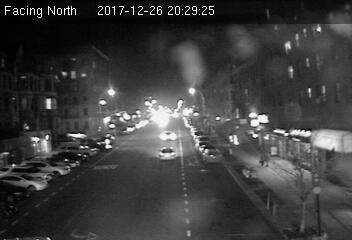car: (203, 149, 221, 164), (157, 148, 176, 161), (158, 130, 177, 142)
